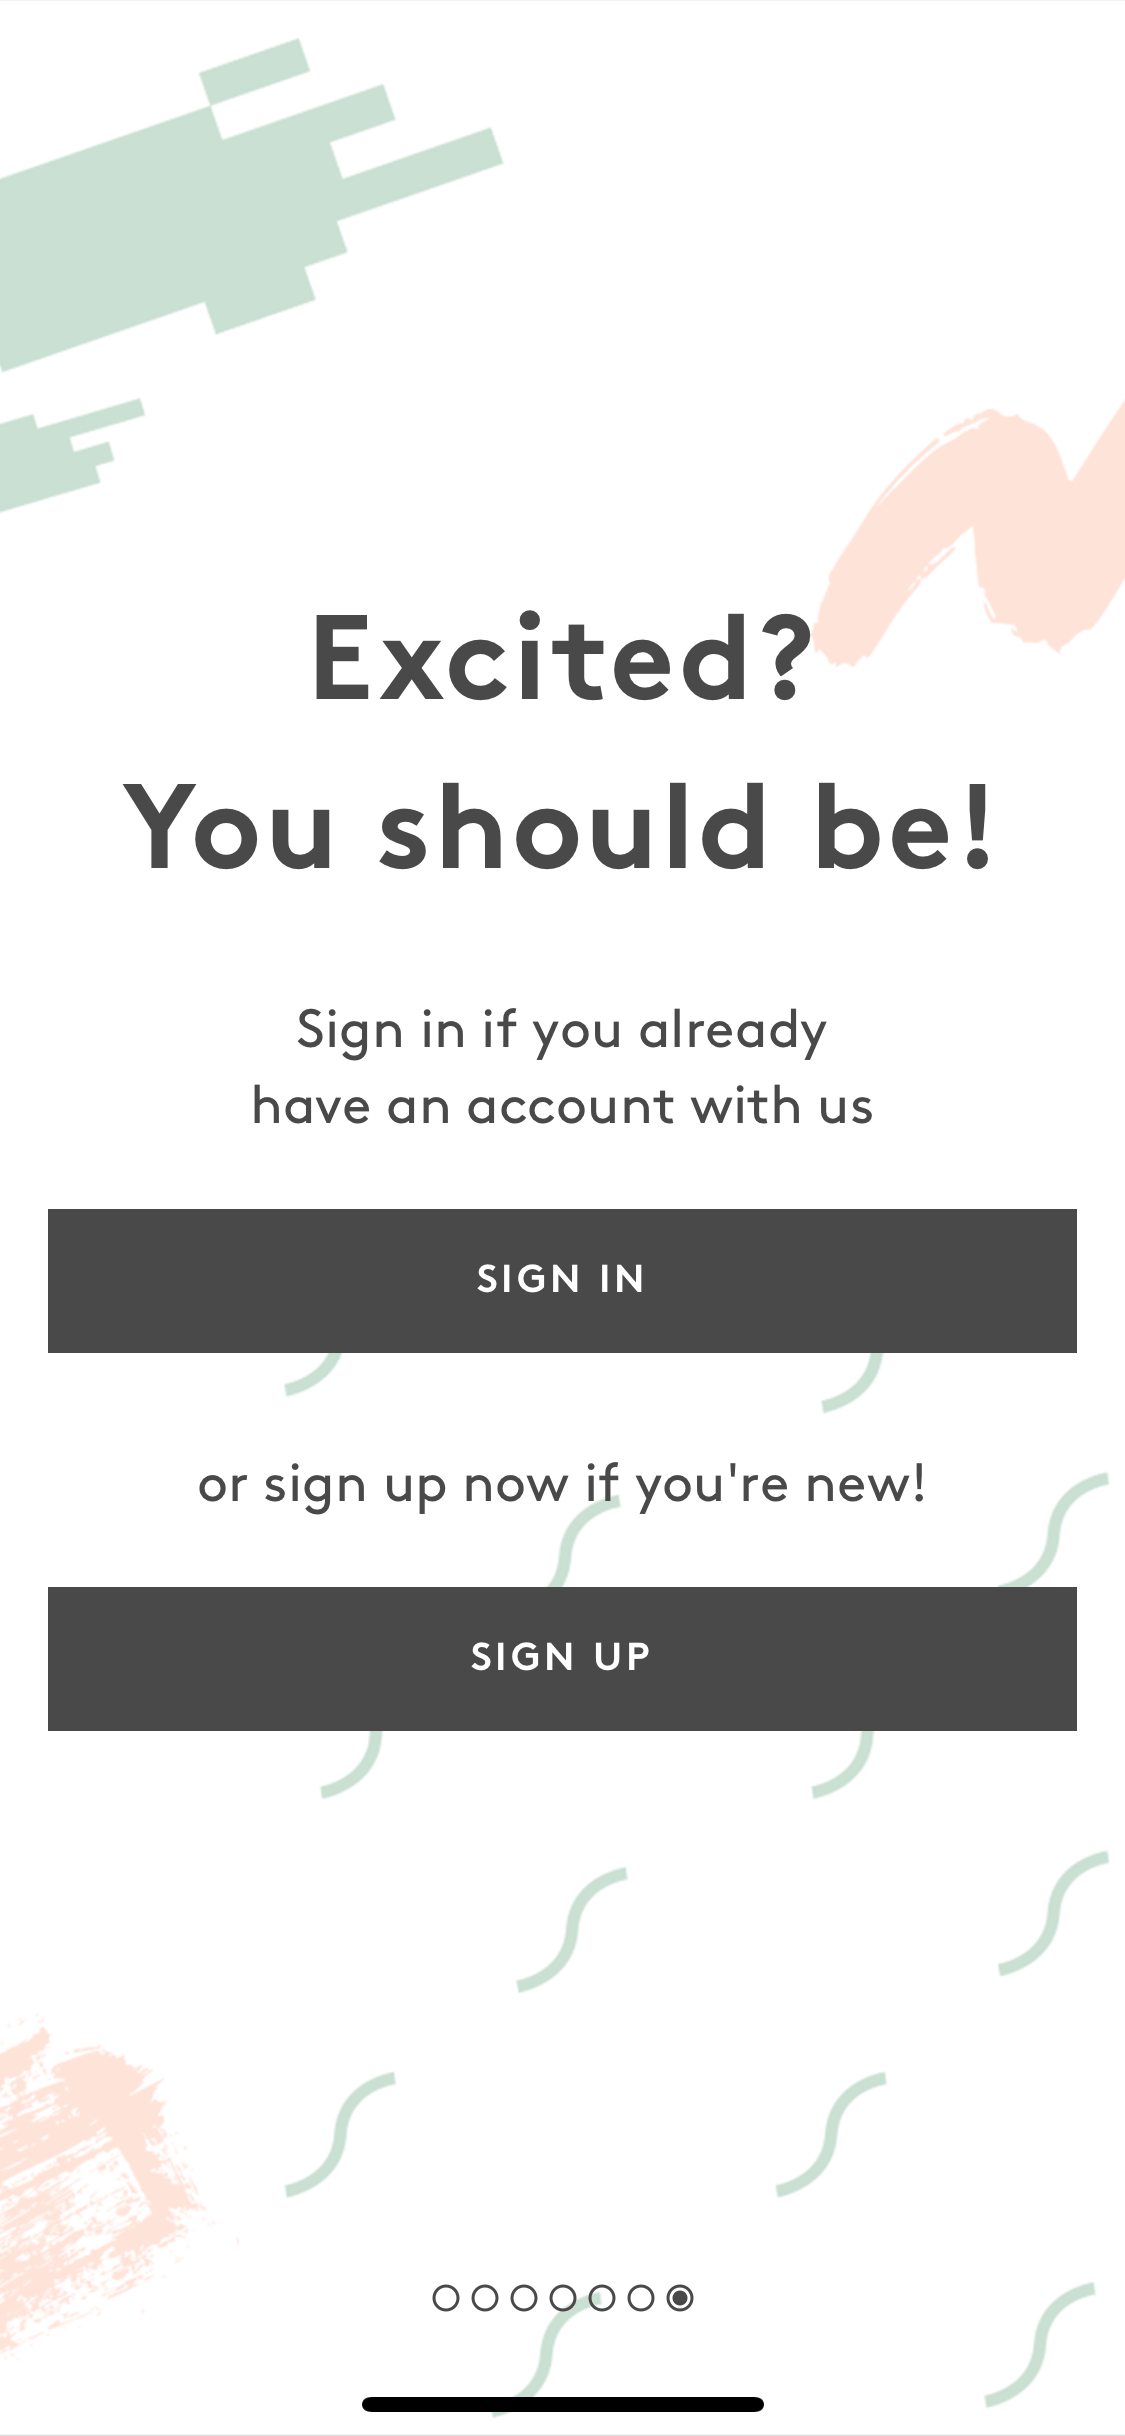Buttons: (36, 1566, 1085, 1748), (34, 1182, 1089, 1355)
Page Controls: (392, 2239, 723, 2332)
